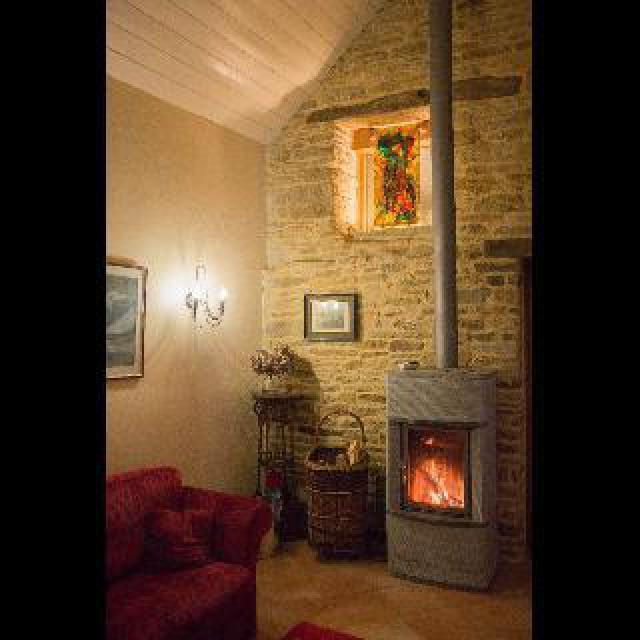Fire: (406, 424, 474, 508)
